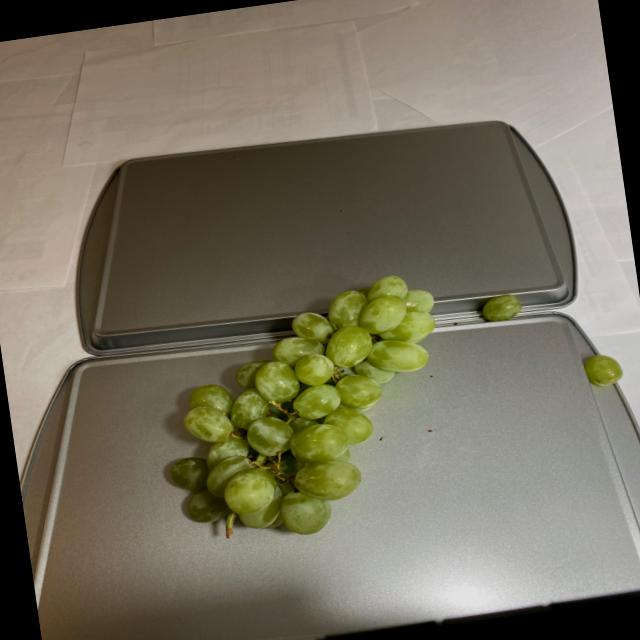grapes: (144, 274, 472, 552), (578, 348, 630, 389), (476, 292, 524, 324)
